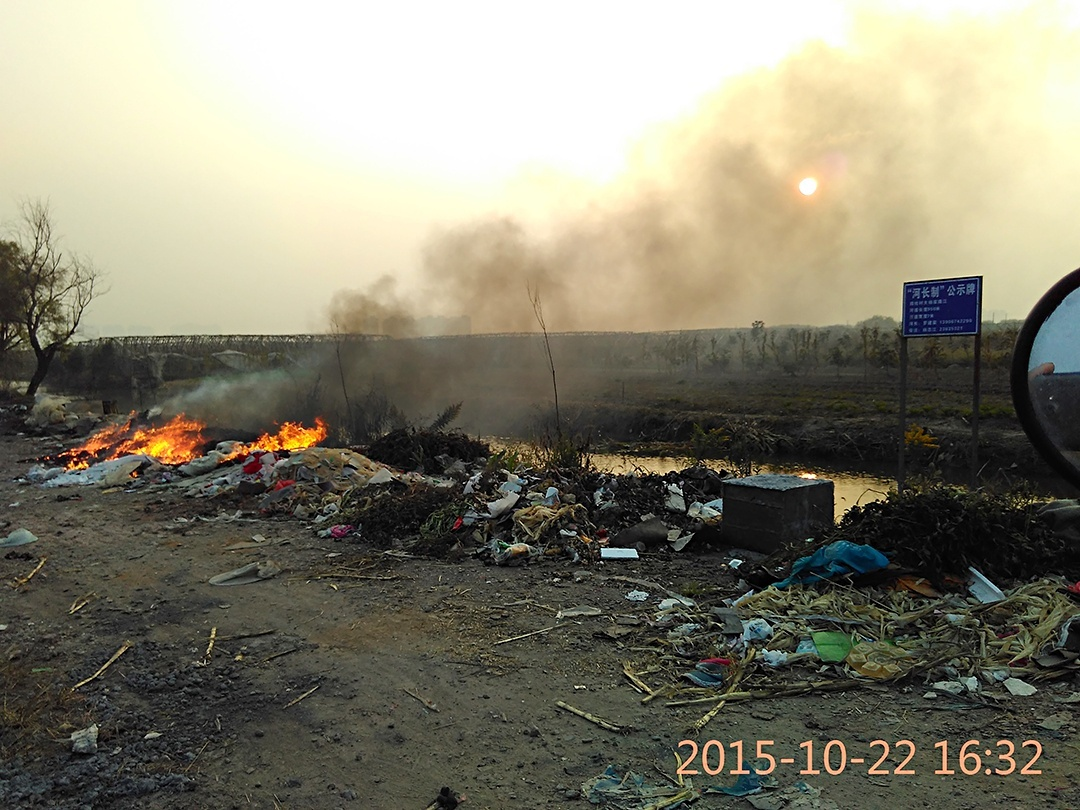fire: (57, 407, 210, 475), (220, 415, 332, 458)
